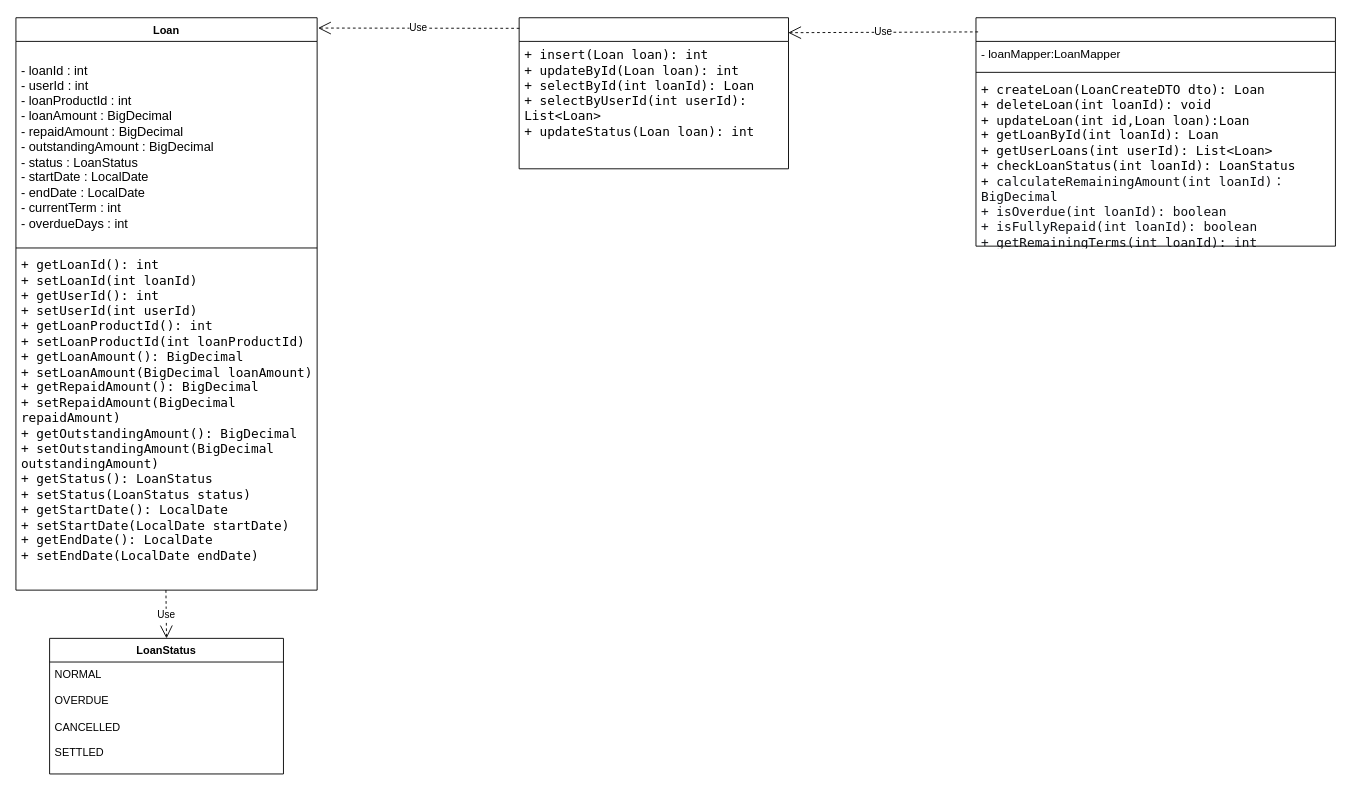
This 1351x793 diagram has some shape labels left out. Each missing label, with the box of its shape:
LoanMapper: (518, 17, 789, 169)
LoanService: (975, 17, 1335, 246)
